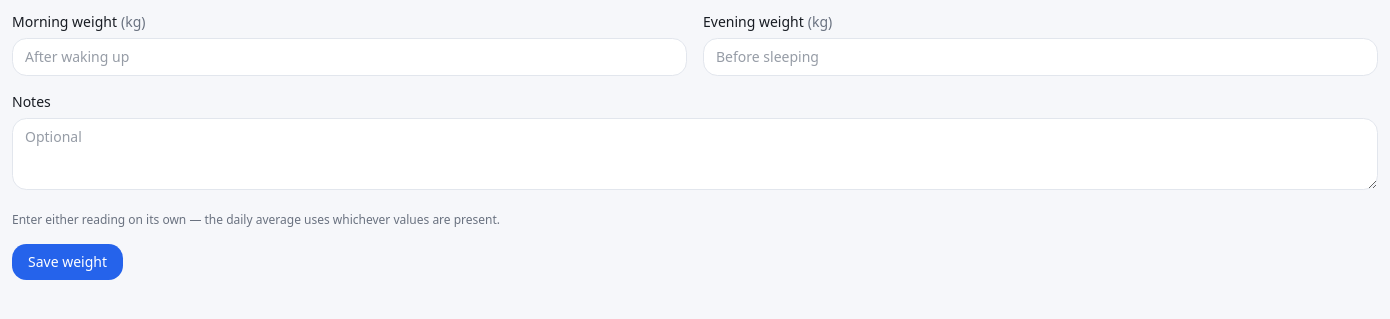
Test: weight quick entry › requires at least one reading
Click the button "Save weight": (68, 262) [12,244,123,280]
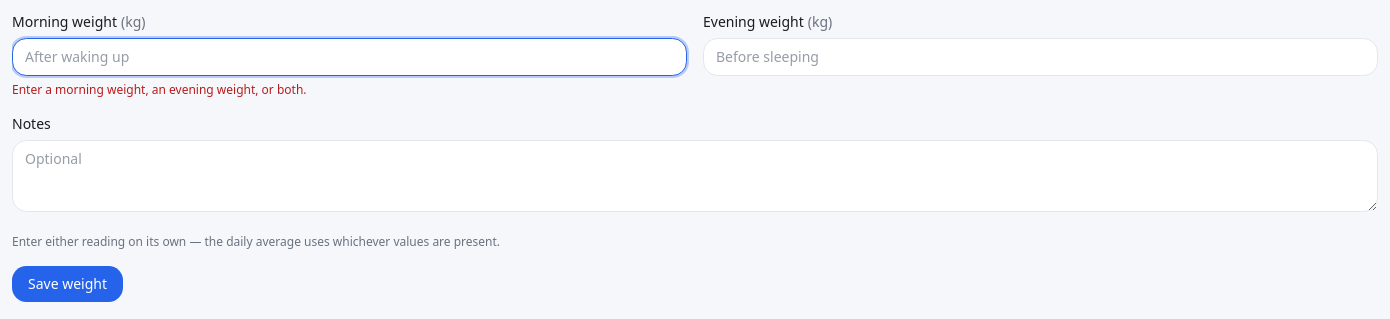
Expected: the text "Enter a morning weight, an evening weight, or both." is shown, [12,81,306,98]
